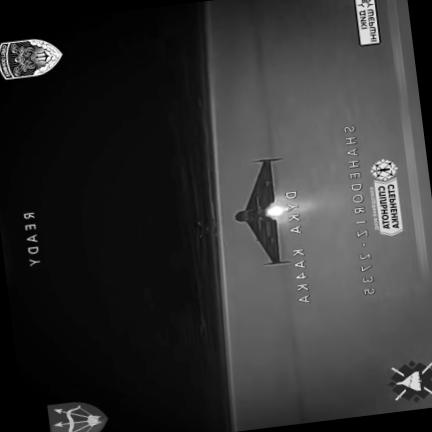Shahed: (235, 158, 290, 265)
